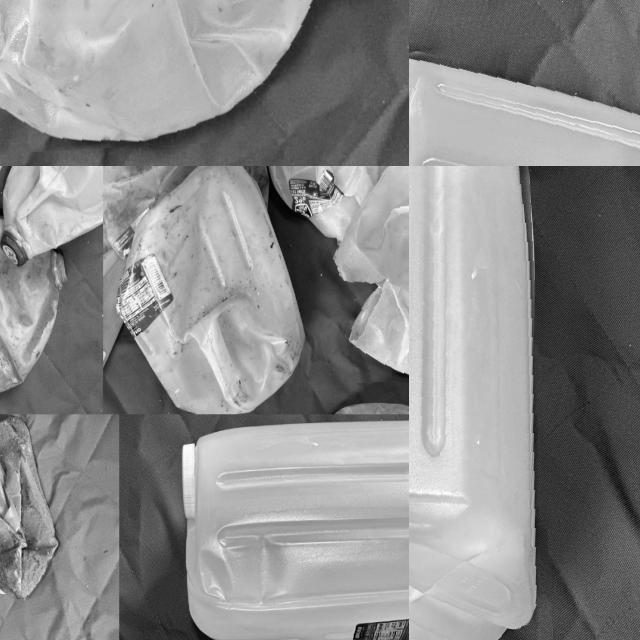milk-jug: (409, 166, 546, 640), (0, 0, 351, 152), (182, 418, 409, 640), (117, 166, 297, 409), (409, 39, 640, 166), (335, 166, 409, 381), (0, 218, 73, 402), (102, 166, 270, 240), (0, 166, 106, 254), (272, 166, 404, 236), (0, 421, 51, 601)
